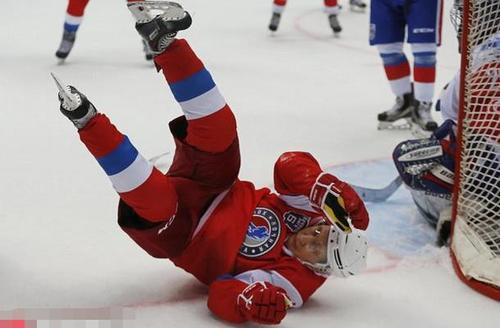fall: (41, 4, 368, 320)
